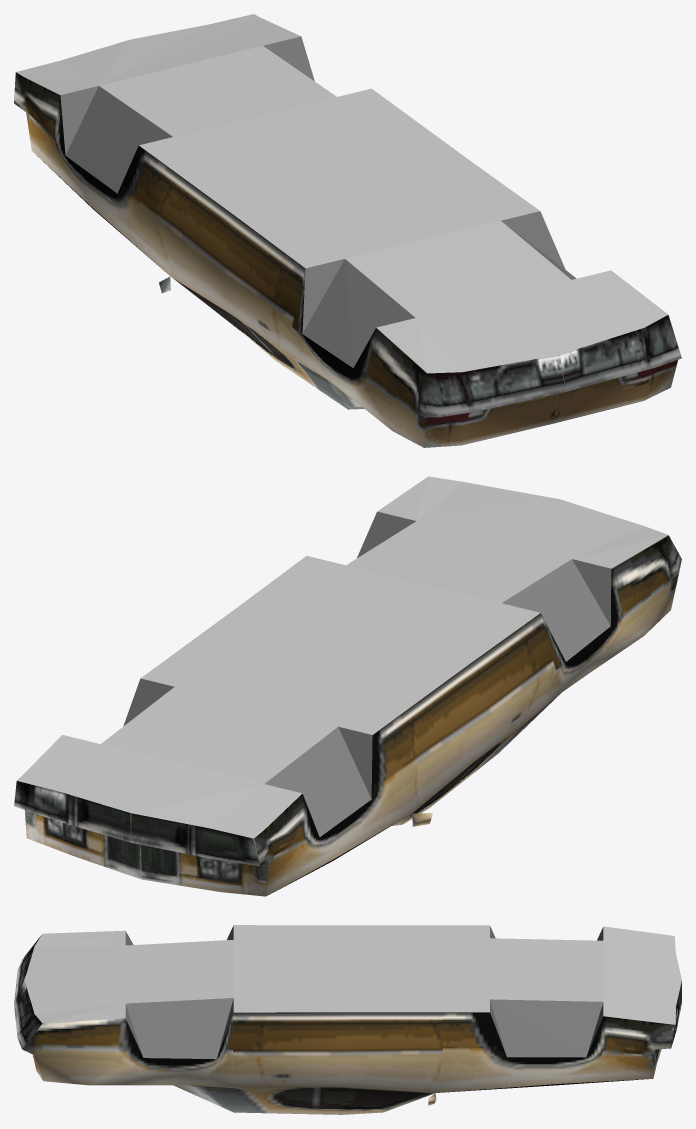
File: VEGAS_model3_clean.obj
3 renders of one model, top to bottom at view 1: azimuth 30°, elevation 25°; view 2: azimuth 150°, elevation 25°; view 3: azimuth 270°, elevation 25°, orthographic. The views are drawn at different scales.
Parts seen in each view (by area): view 1: VEGAS_model3_clean; view 2: VEGAS_model3_clean; view 3: VEGAS_model3_clean.
Part boxes in pixels (box(x1,y1,x2,y2)): VEGAS_model3_clean: box(14, 14, 681, 447); VEGAS_model3_clean: box(14, 476, 681, 896); VEGAS_model3_clean: box(14, 925, 681, 1114).
Size of the model in its own units: 270 by 152 by 748.
